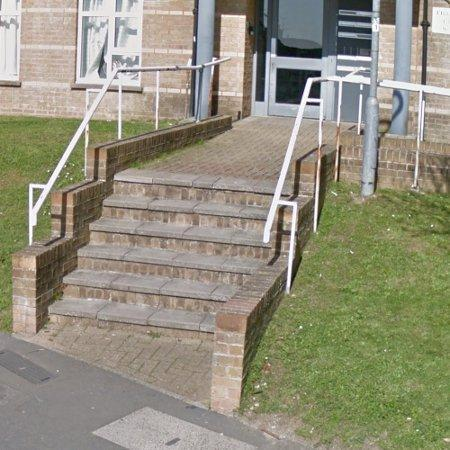stairs: (49, 170, 273, 334)
